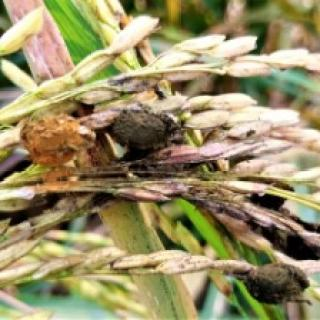Gosong-Palsu: (21, 114, 109, 180), (110, 103, 180, 159), (236, 264, 307, 301), (276, 230, 319, 259), (240, 177, 293, 190), (251, 194, 284, 209)
